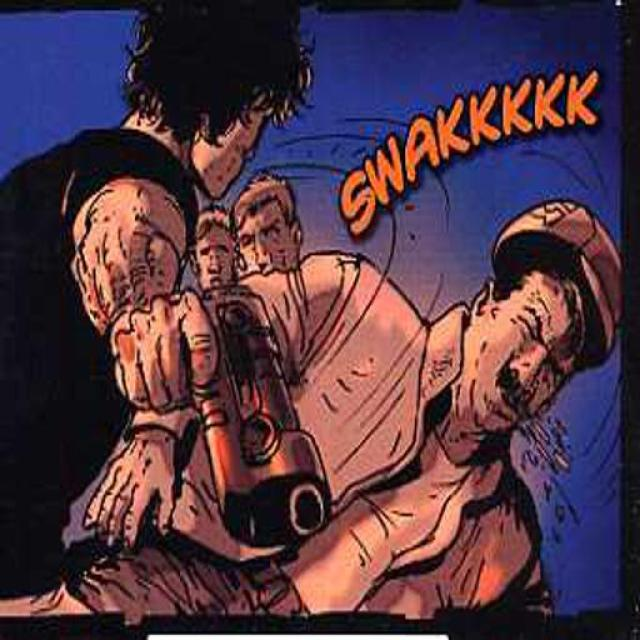pistol: (80, 279, 331, 543)
